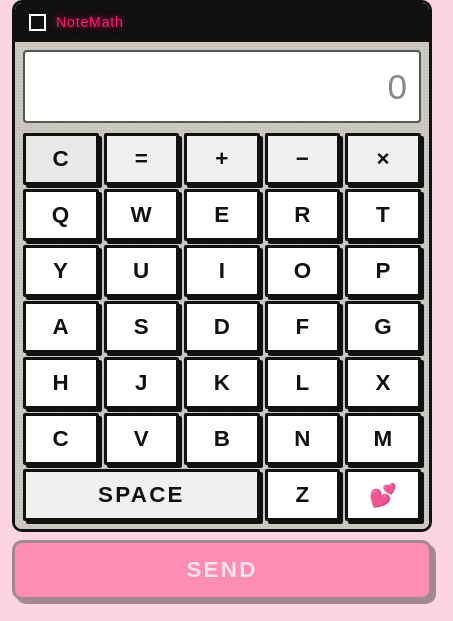
Test case: appending characters › multiple characters build up the full expression
The image size is (453, 621).
Click the button "M": click(383, 439) [345, 413, 421, 465]
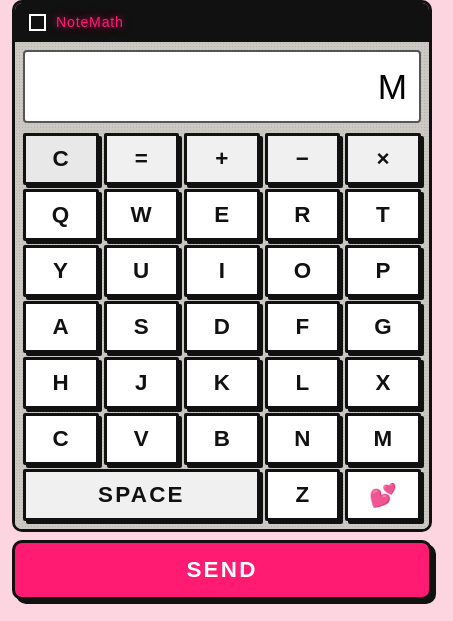
Click the button "E": click(222, 215) [184, 189, 260, 241]
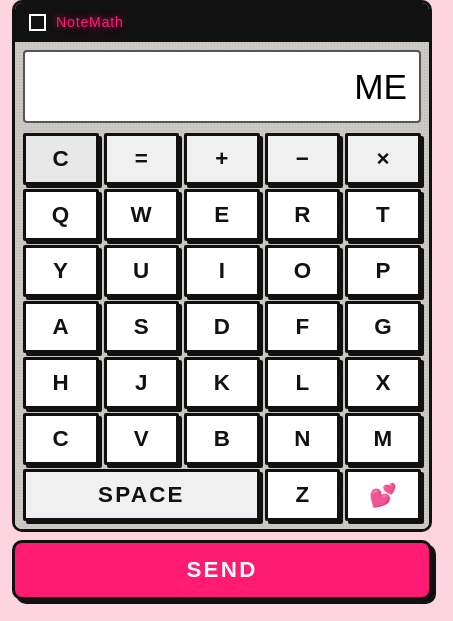
Click the button "+": click(222, 159) [184, 133, 260, 185]
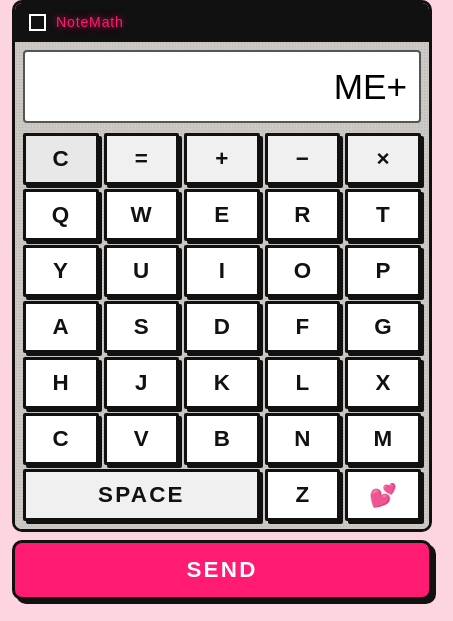
Click the button "Y": click(61, 271) [23, 245, 99, 297]
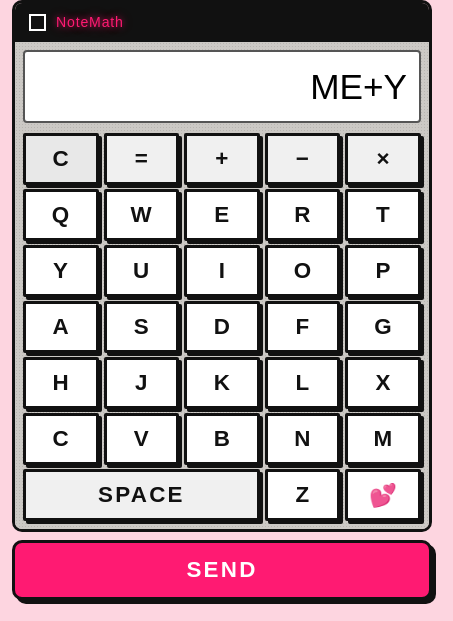
Click the button "O": click(303, 271) [265, 245, 340, 297]
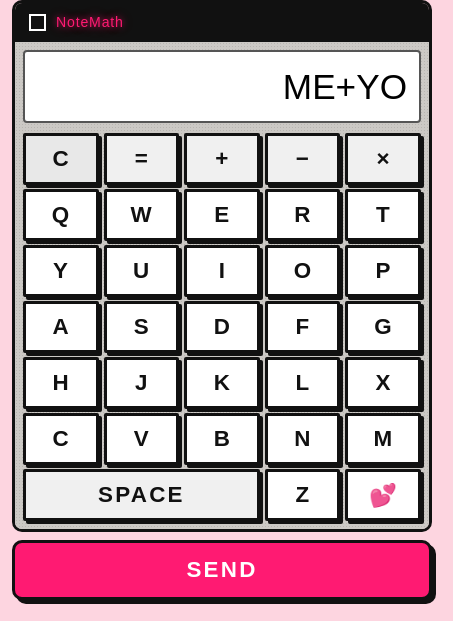
Click the button "U": click(141, 271) [104, 245, 179, 297]
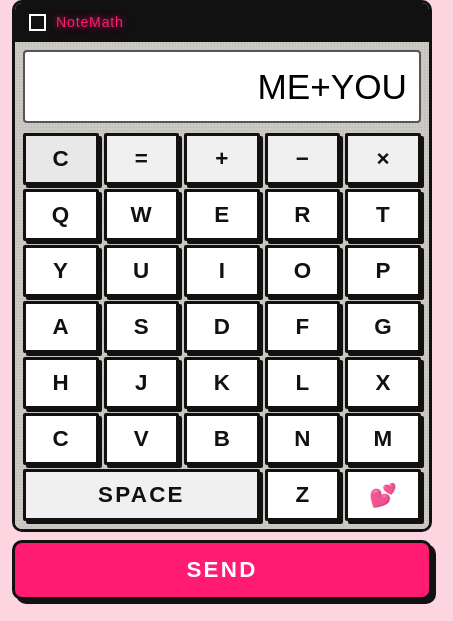
Expected: the text "ME+YOU" is shown, [257, 62, 407, 111]
